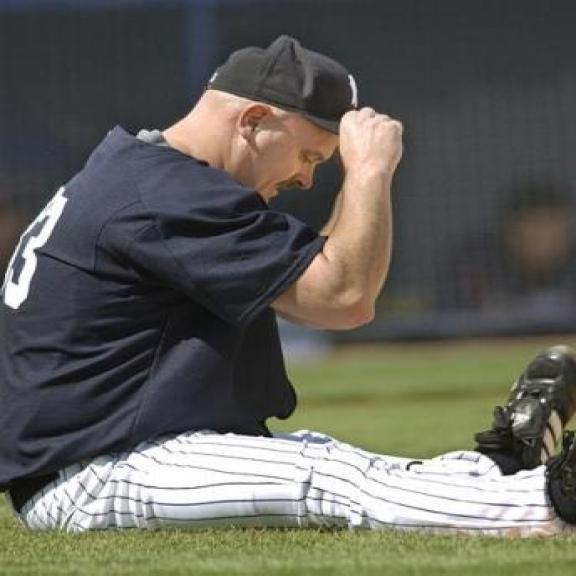face: (234, 102, 338, 207)
